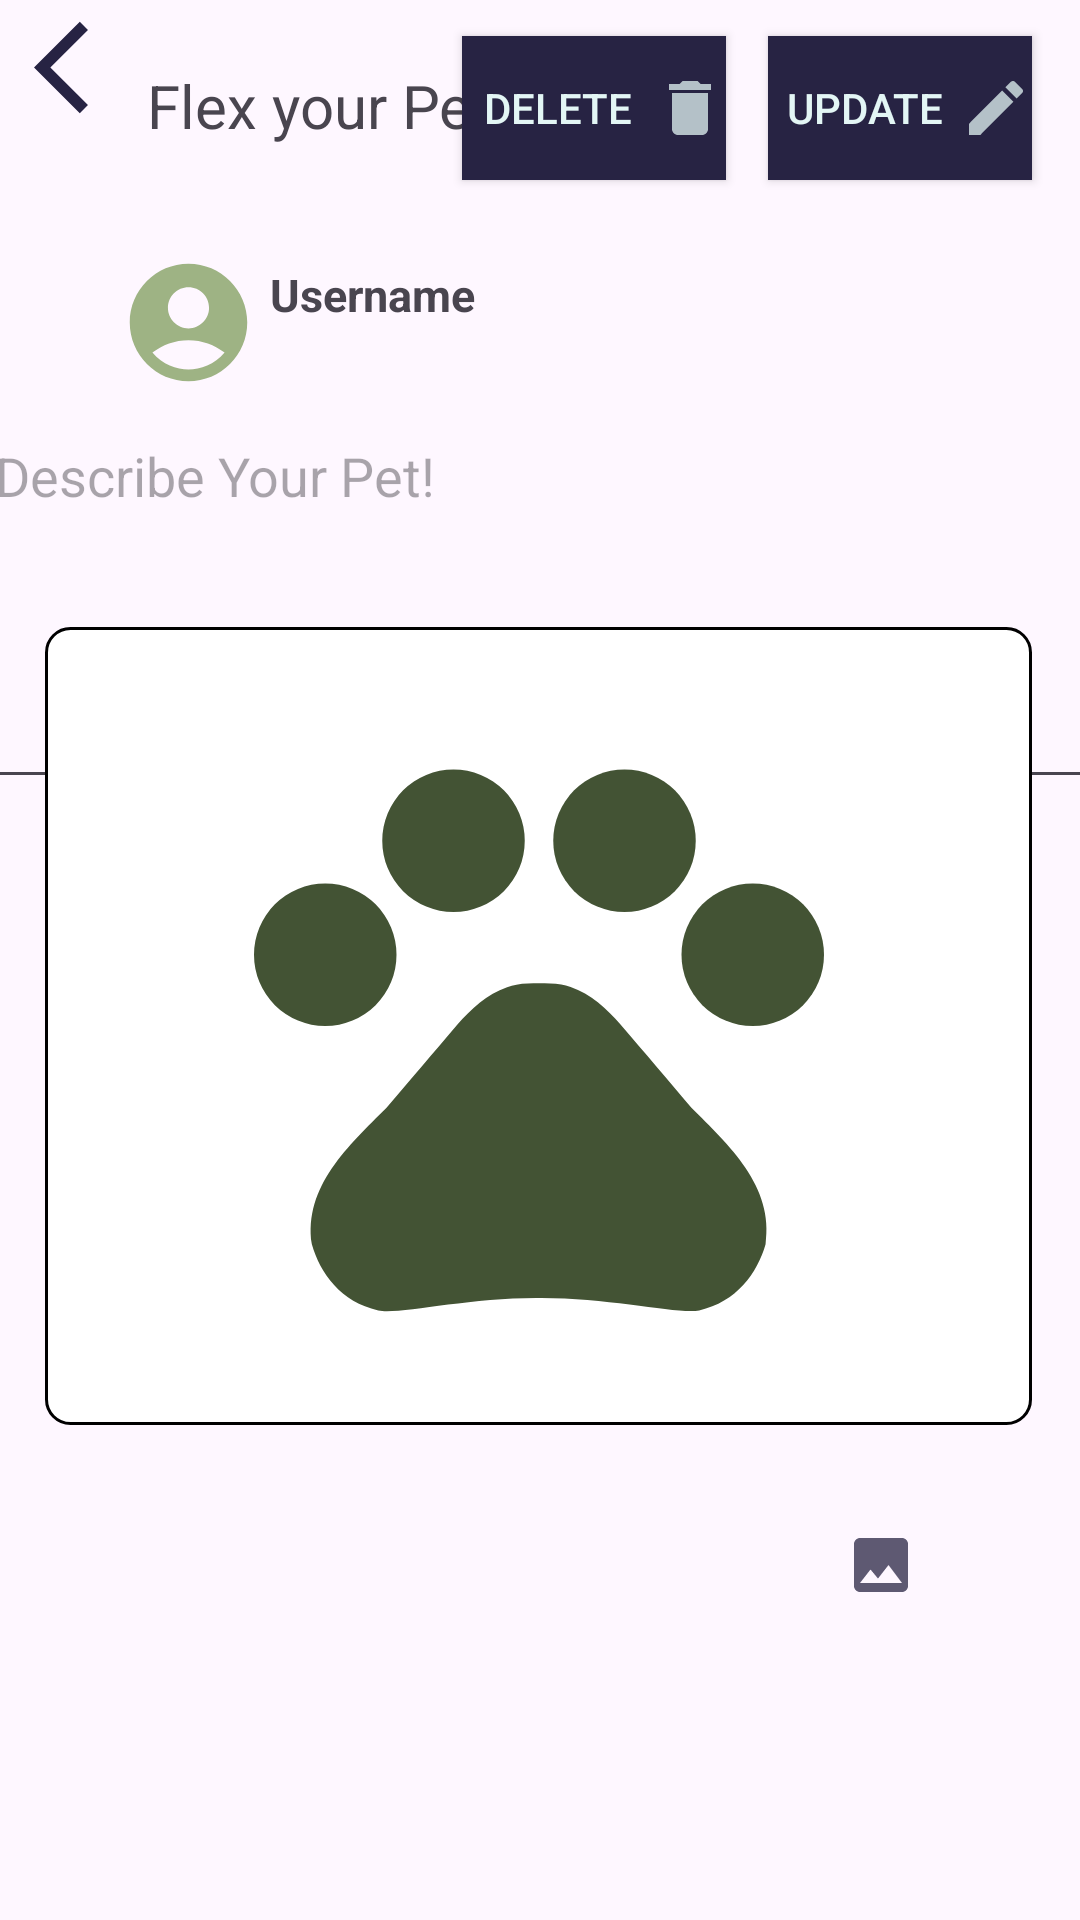

Screen size 1080x1920. Icon name, then its box in pixels as (x1, y1, x2, y2):
profile users: (129, 263, 248, 382)
